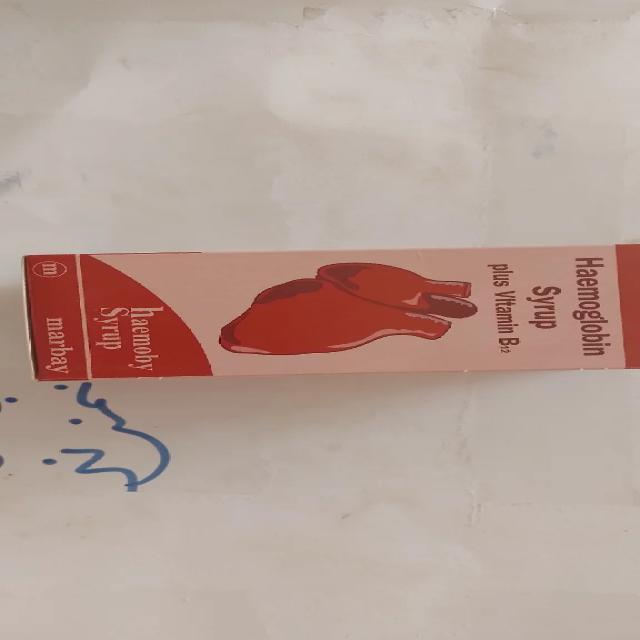drug-name: (572, 255, 619, 359)
